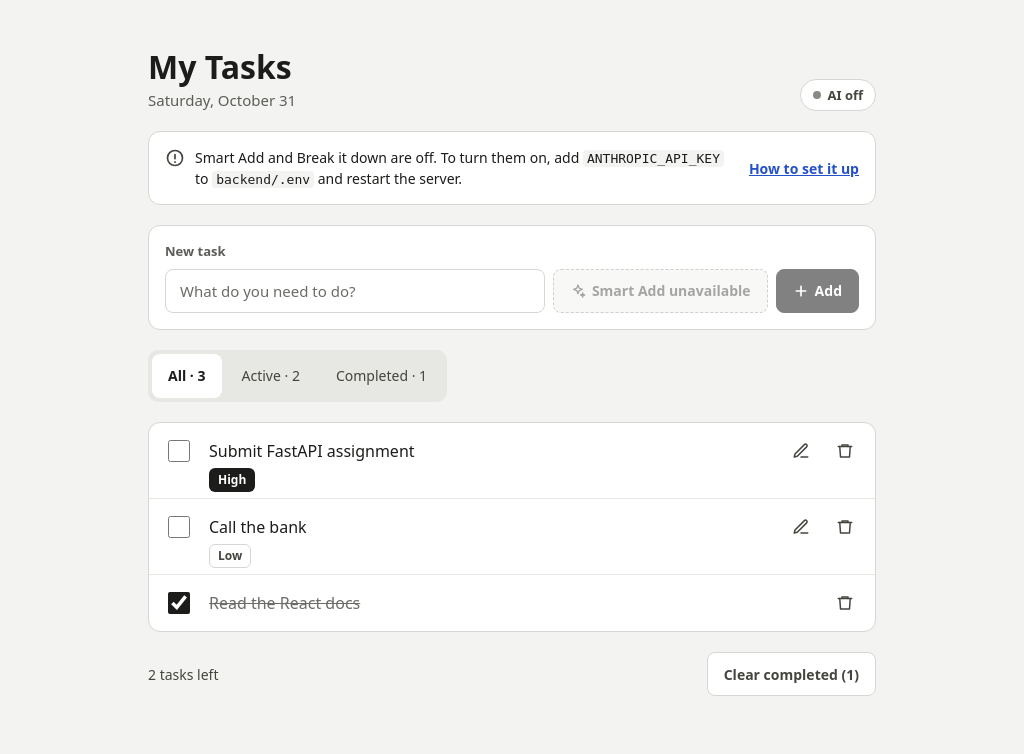
editing, filters and clear completed › cancels editing with Escape without saving
The width and height of the screenshot is (1024, 754).
Click the button named "Edit \"Call the bank\"" at point(801, 527), box [779, 505, 823, 549]
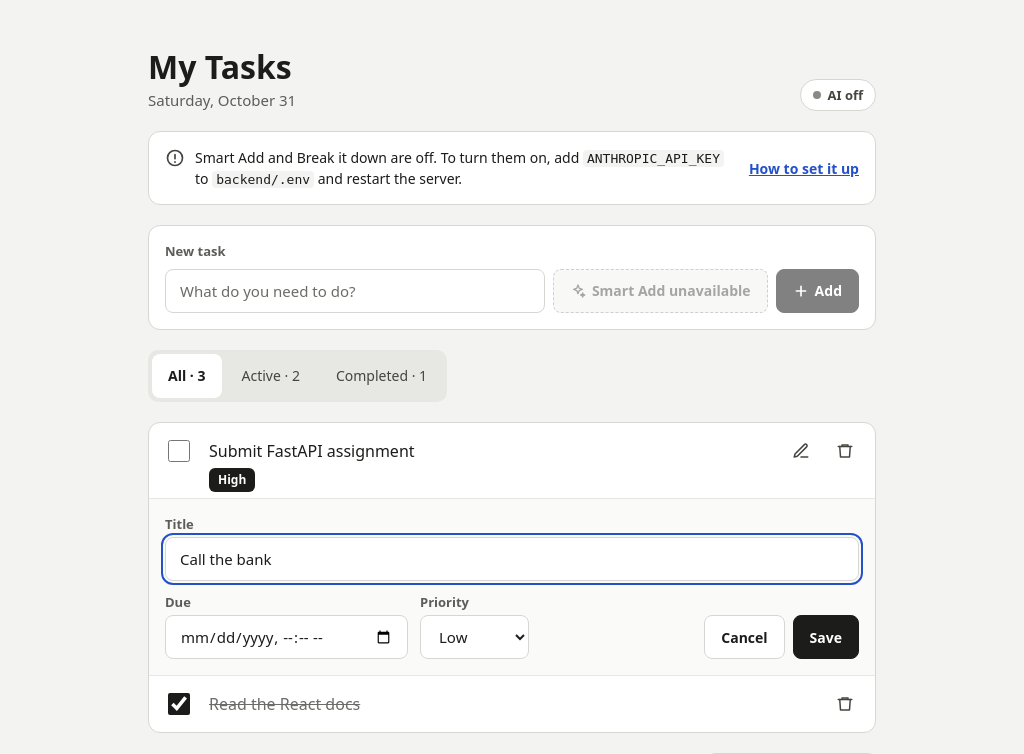
Type " (changed)" into the field labelled "Title" at point(512, 559), box [165, 537, 859, 581]
Then press Escape
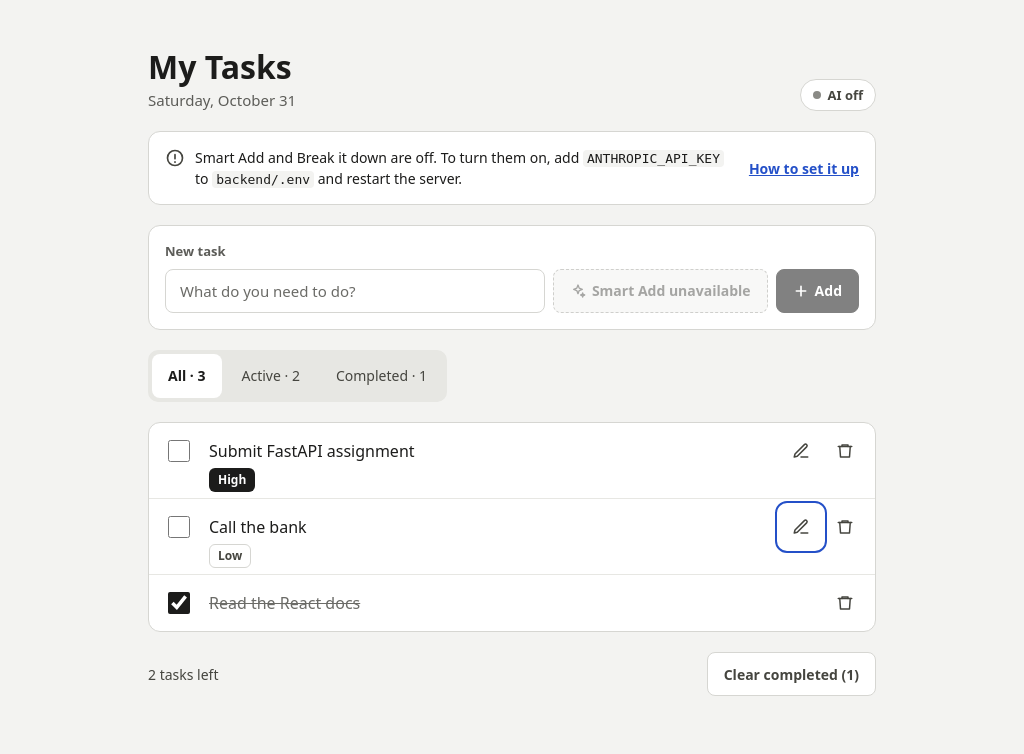
expect the checkbox named "Call the bank" is shown: met, box [168, 516, 190, 538]
